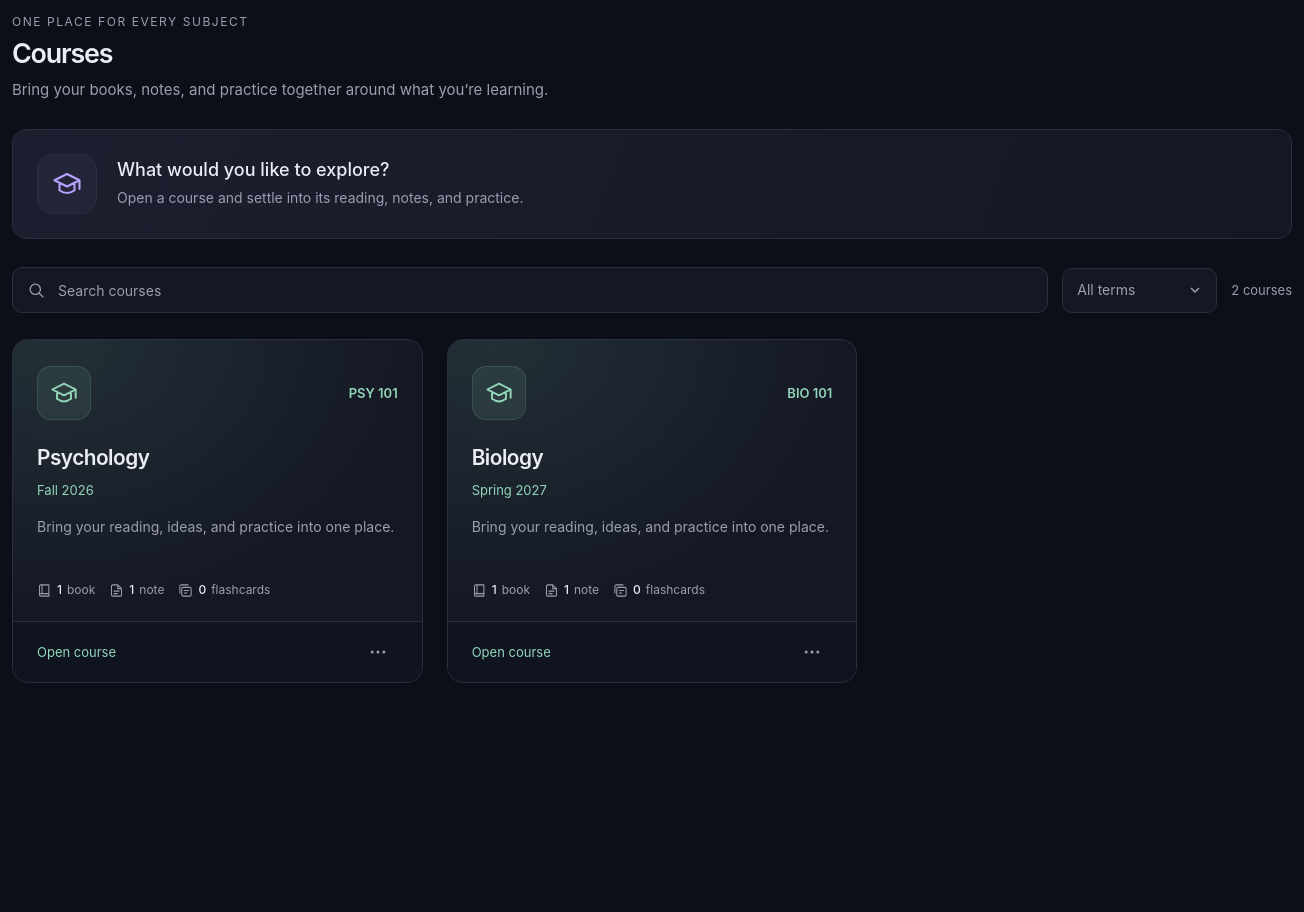
Test: course organization › searches courses and filters by term
The width and height of the screenshot is (1304, 912).
Expected: the heading "Psychology" is shown, [37,445,149,470]
Type "BIO" into the search field labelled "Search courses" at (545, 290), box [56,268,1033,312]
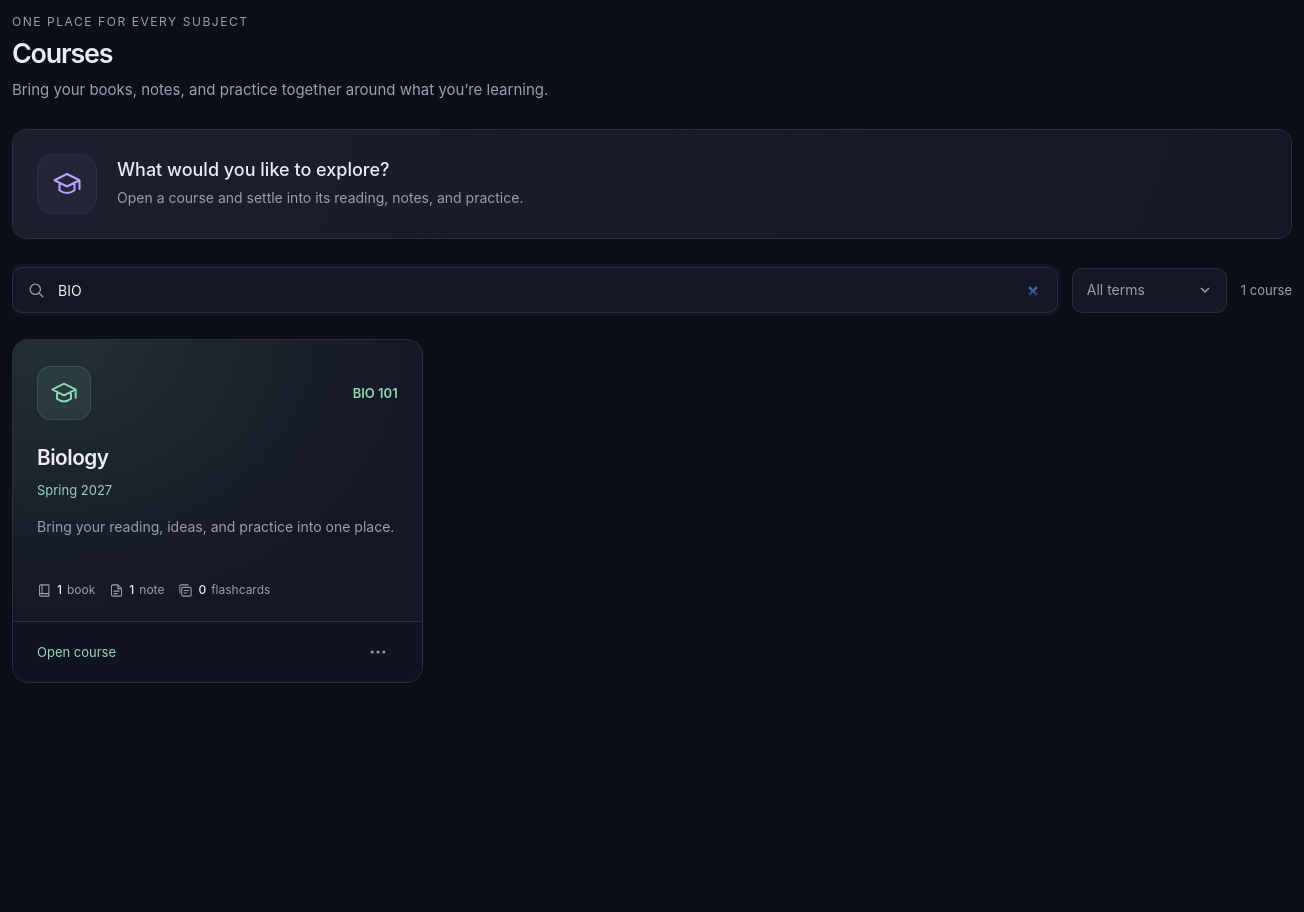
Expected: the heading "Biology" is shown, [37,445,108,470]
Expected: the link "Psychology" is gone
Clear the search field named "Search courses" at (549, 290), box [56,268,1043,312]
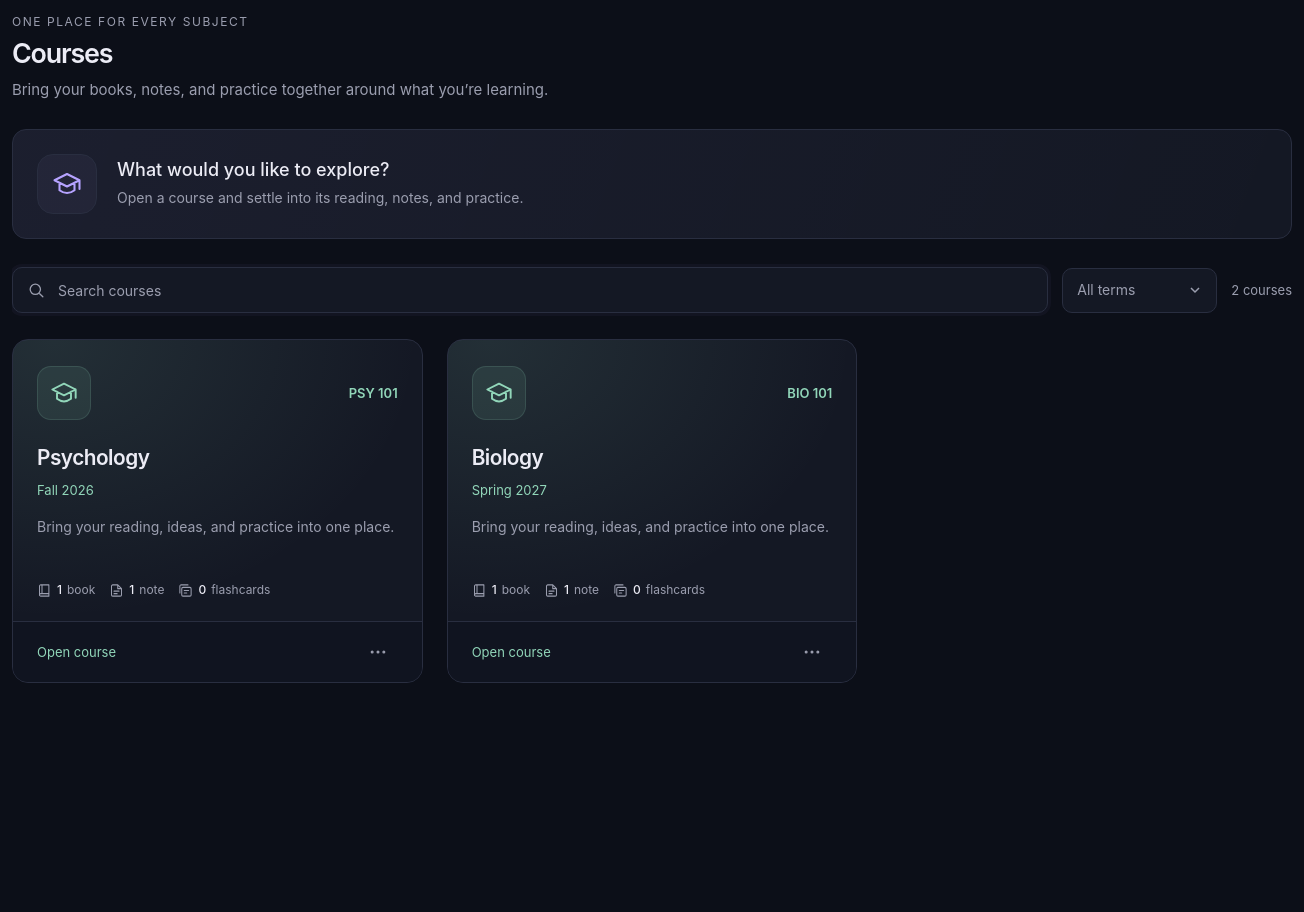
Select "Fall 2026" in the dropdown named "Filter courses by term" at (1140, 290), box [1062,268,1217,312]
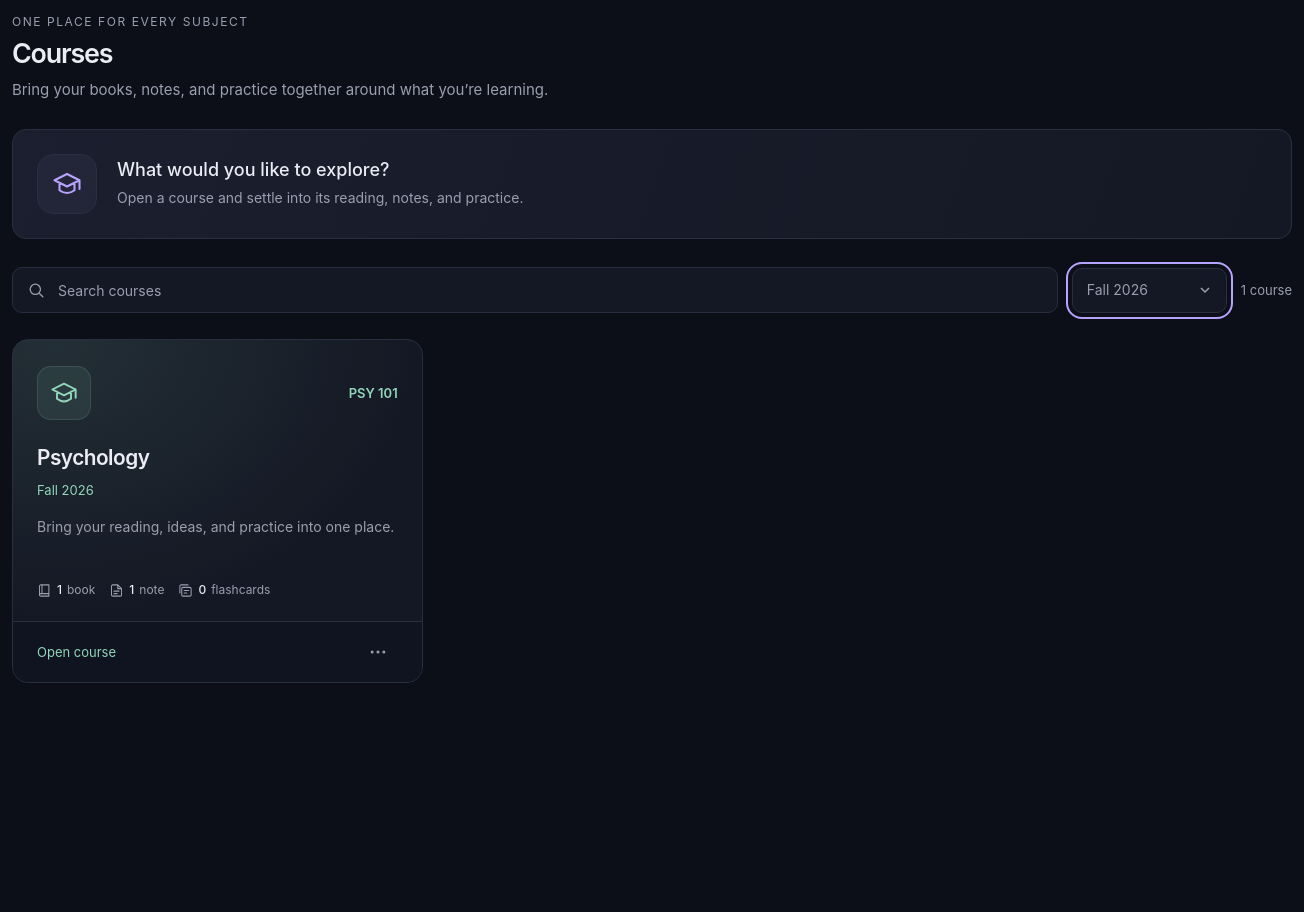
Expected: the heading "Psychology" is shown, [37,445,149,470]
Expected: the link "Biology" is gone
